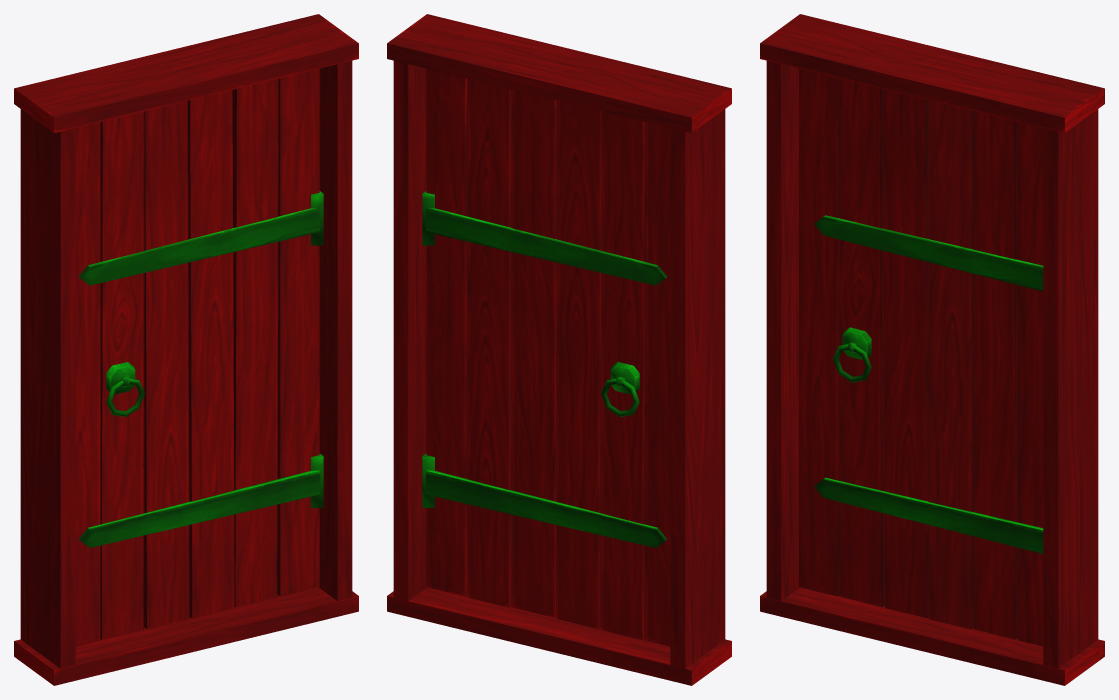
The model's file is DoorSingle01.fbx.
The picture shows the model from 3 angles, left to right: view 1: azimuth 30°, elevation 25°; view 2: azimuth 150°, elevation 25°; view 3: azimuth 330°, elevation 25°; orthographic projection.
Parts seen in each view (by area): view 1: Leaf01_LOD0, DoorSingle01_LOD0; view 2: Leaf01_LOD0, DoorSingle01_LOD0; view 3: Leaf01_LOD0, DoorSingle01_LOD0.
Boxes of the visible parts, x1,y1,x2,y2 form: Leaf01_LOD0: [75, 68, 323, 646]; DoorSingle01_LOD0: [14, 14, 358, 685]; Leaf01_LOD0: [422, 68, 670, 646]; DoorSingle01_LOD0: [387, 14, 731, 685]; Leaf01_LOD0: [799, 68, 1043, 646]; DoorSingle01_LOD0: [760, 14, 1104, 685].
Size of what is drawn, in the model's own units: 1.15 by 2.06 by 0.2628.
